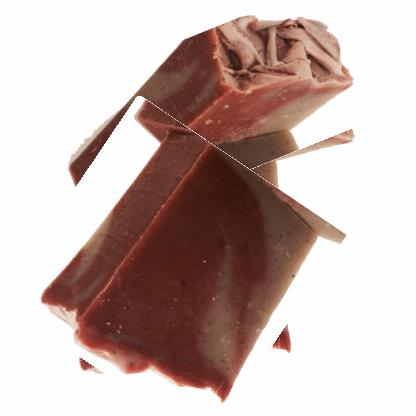soap: (24, 119, 324, 415), (38, 10, 376, 210)
